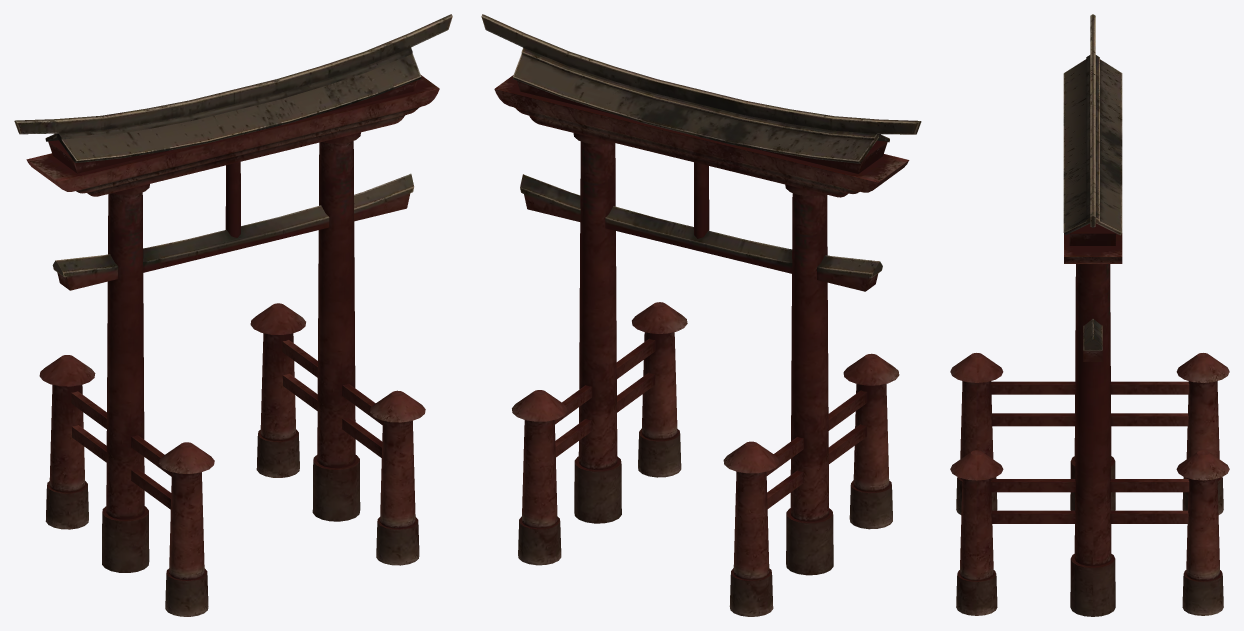
The model's file is torii.glb.
The picture shows the model from 3 angles, left to right: view 1: azimuth 30°, elevation 25°; view 2: azimuth 150°, elevation 25°; view 3: azimuth 270°, elevation 25°; orthographic projection. The views are drawn at different scales.
Visible parts, largest first — view 1: Object_2; view 2: Object_2; view 3: Object_2.
Boxes of the visible parts, x1=… form: Object_2: x1=14, y1=14, x2=452, y2=616; Object_2: x1=481, y1=14, x2=921, y2=616; Object_2: x1=950, y1=14, x2=1229, y2=616.
Bounding box in the file's own units: 1.08 × 1.11 × 0.6299.
Materials: 1 (1 with a texture image).
